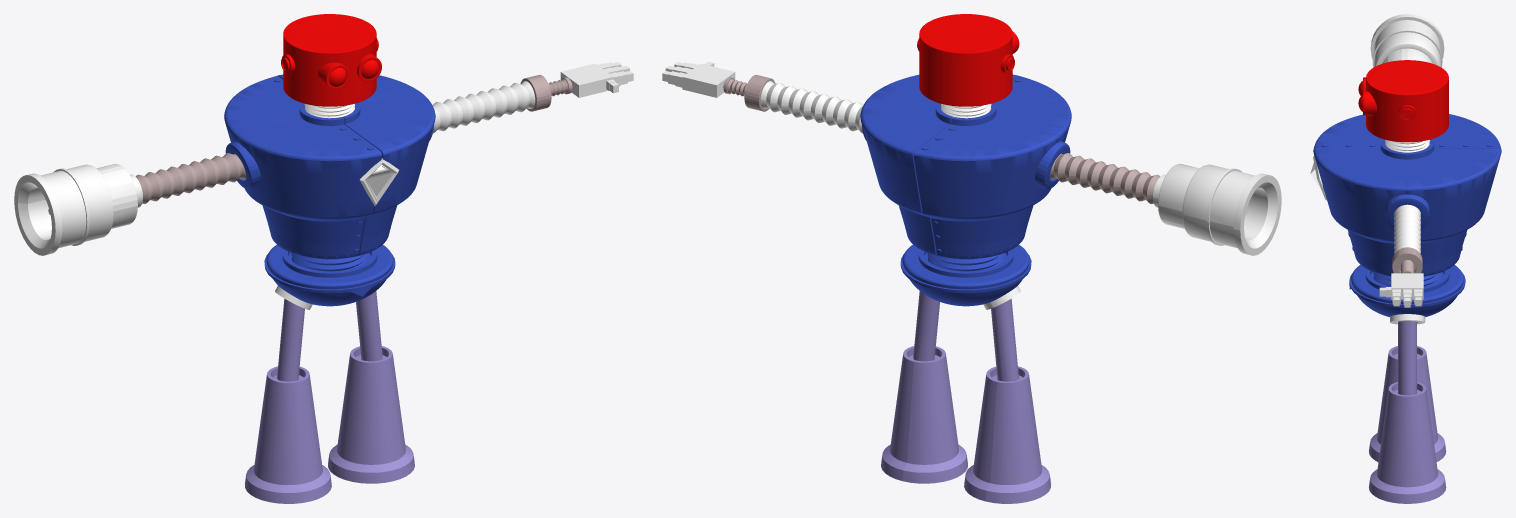
The model's file is bot.glb.
3 views of the same model, side by side, from view 1: azimuth 30°, elevation 25°; view 2: azimuth 150°, elevation 25°; view 3: azimuth 270°, elevation 25° (orthographic). The views are drawn at different scales.
Visible parts, largest first — view 1: Body, Legs_001, weapon_left, head, torso, Cylinder, arms_left, arms_right, hand_rt_right, eyes, hand_right, Plane_002 (+2 smaller); view 2: Body, Legs_001, weapon_left, head, torso, Cylinder, arms_left, arms_right, hand_rt_right, hand_right, waist, shoulder_left; view 3: Body, Legs_001, head, weapon_left, torso, Cylinder, hand_rt_right, arms_right, shoulder_right, hand_right, eyes, neck_2 (+3 smaller).
Boxes of the visible parts, box(x1,y1,x2,y2) form: Body: box(224, 74, 435, 259); Legs_001: box(245, 346, 414, 503); weapon_left: box(14, 163, 137, 255); head: box(283, 14, 376, 106); torso: box(264, 245, 395, 306); Cylinder: box(277, 291, 382, 381); arms_left: box(135, 153, 246, 203); arms_right: box(432, 81, 535, 133); hand_rt_right: box(560, 62, 633, 97); eyes: box(318, 53, 381, 89); hand_right: box(520, 74, 572, 111); Plane_002: box(359, 158, 398, 206); Body: box(860, 74, 1071, 259); Legs_001: box(881, 346, 1050, 503); weapon_left: box(1158, 163, 1281, 255); head: box(919, 14, 1012, 106); torso: box(900, 245, 1031, 306); Cylinder: box(913, 291, 1018, 381); arms_left: box(1049, 153, 1160, 203); arms_right: box(760, 81, 863, 133); hand_rt_right: box(662, 61, 735, 97); hand_right: box(723, 74, 775, 111); waist: box(927, 253, 1004, 271); shoulder_left: box(1035, 141, 1070, 188); Body: box(1313, 114, 1501, 276); Legs_001: box(1369, 346, 1446, 503); head: box(1366, 60, 1448, 142); weapon_left: box(1370, 14, 1444, 67); torso: box(1349, 265, 1465, 317); Cylinder: box(1398, 321, 1416, 395); hand_rt_right: box(1379, 273, 1423, 307); arms_right: box(1394, 204, 1420, 253); shoulder_right: box(1385, 194, 1429, 228); hand_right: box(1392, 247, 1422, 273); eyes: box(1358, 77, 1376, 115); neck_2: box(1385, 139, 1429, 152).
Size of the model in its own units: 5.47 by 3.89 by 1.72.
